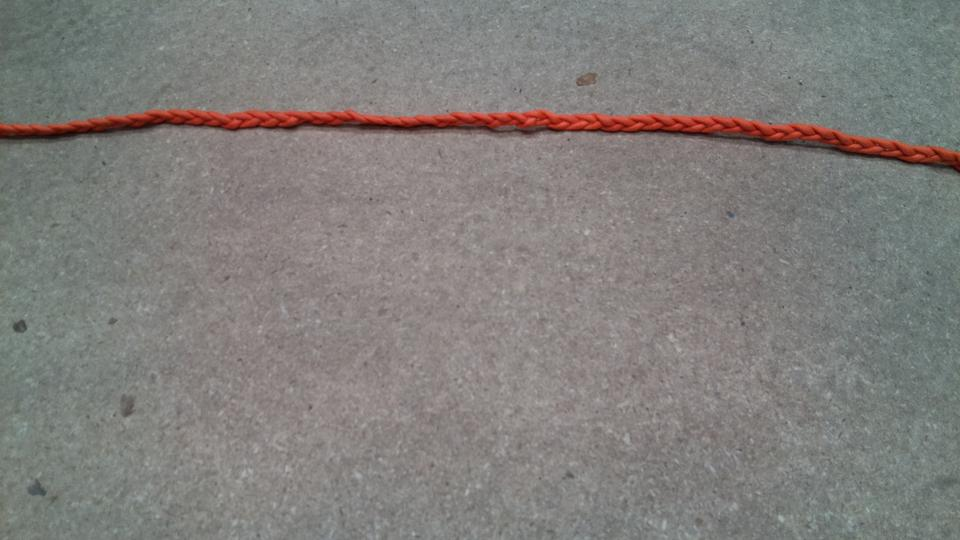rope: (1, 99, 960, 175)
